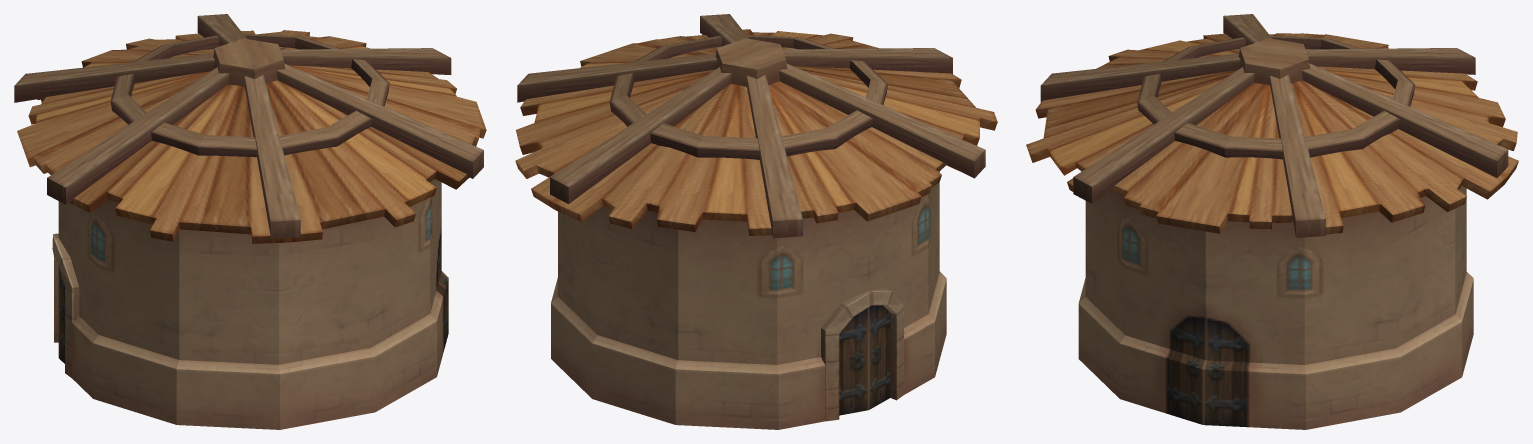
The model's file is Area_08_17.fbx.
The picture shows the model from 3 angles, left to right: view 1: azimuth 30°, elevation 25°; view 2: azimuth 150°, elevation 25°; view 3: azimuth 270°, elevation 25°; orthographic projection.
Parts seen in each view (by area): view 1: Area_08_17; view 2: Area_08_17; view 3: Area_08_17.
Part boxes in pixels (left/top/right/bottom): Area_08_17: left=14, top=14, right=486, bottom=429; Area_08_17: left=515, top=14, right=997, bottom=429; Area_08_17: left=1026, top=14, right=1518, bottom=429.
Size of the model in its own units: 1292 by 850 by 1301.
